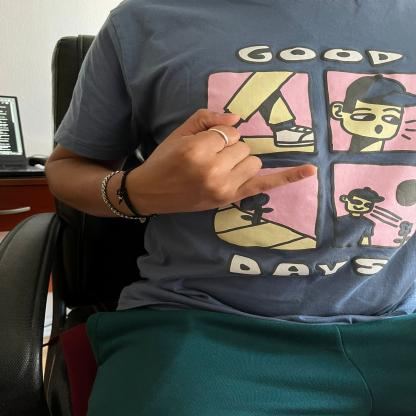J: (136, 104, 320, 210)
